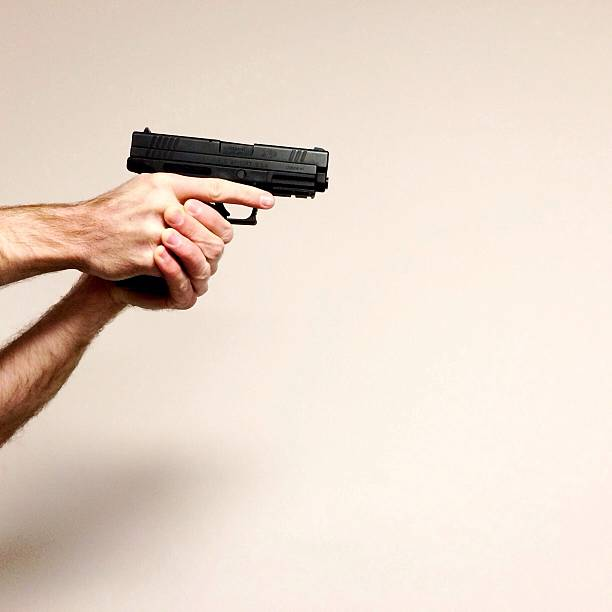pistol: (127, 125, 342, 233)
